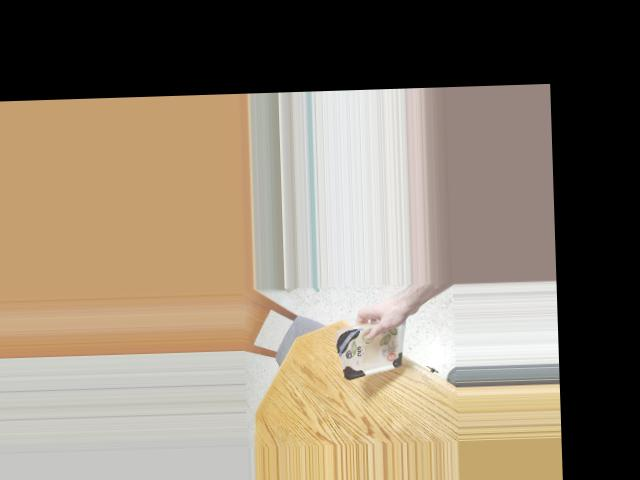cheese: (332, 317, 418, 376)
